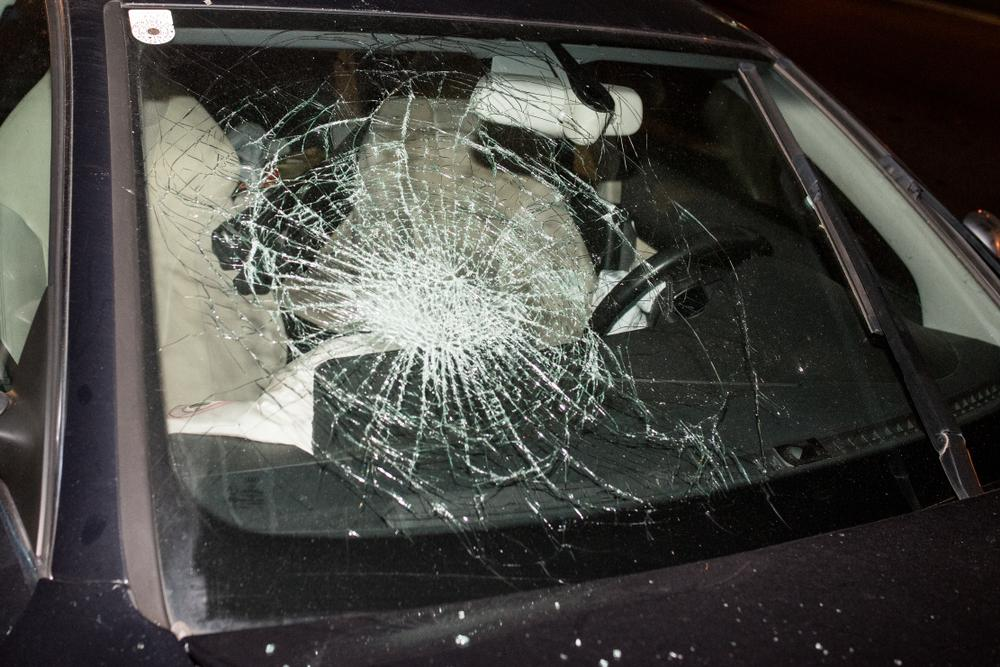glass shatter: (130, 9, 1000, 637)
